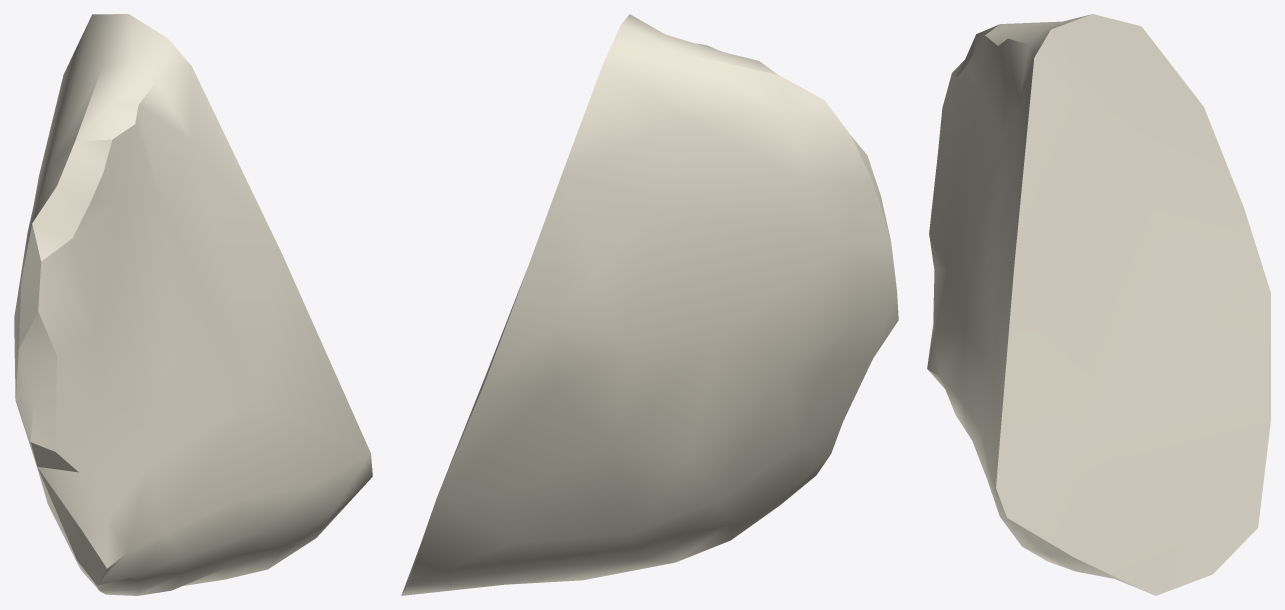
File: fma12099_mm2398m.glb
3 renders of one model, left to right at view 1: azimuth 30°, elevation 25°; view 2: azimuth 150°, elevation 25°; view 3: azimuth 270°, elevation 25°, orthographic. The views are drawn at different scales.
Parts seen in each view (by area): view 1: FMA12099_MM2398M; view 2: FMA12099_MM2398M; view 3: FMA12099_MM2398M.
Part boxes in pixels (bbox=[...]): FMA12099_MM2398M: bbox=[14, 14, 372, 595]; FMA12099_MM2398M: bbox=[401, 14, 898, 595]; FMA12099_MM2398M: bbox=[927, 14, 1270, 595].
Size of the model in its own units: 0.00757 by 0.0107 by 0.00654.
